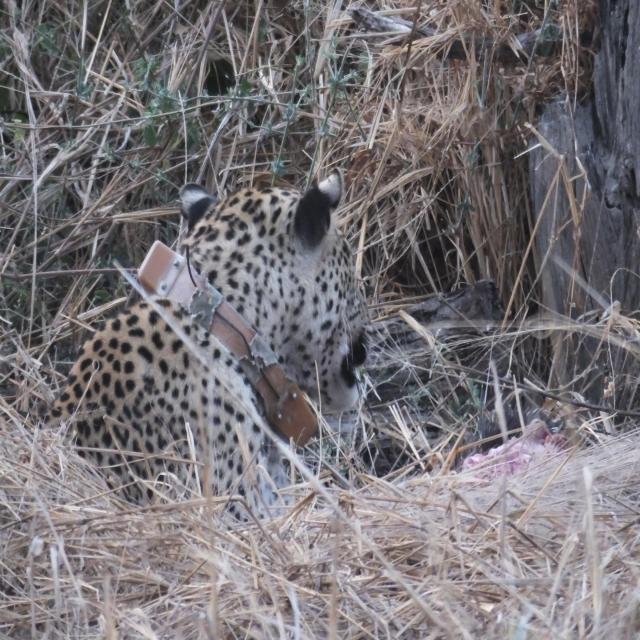Leopard: (23, 156, 403, 560)
